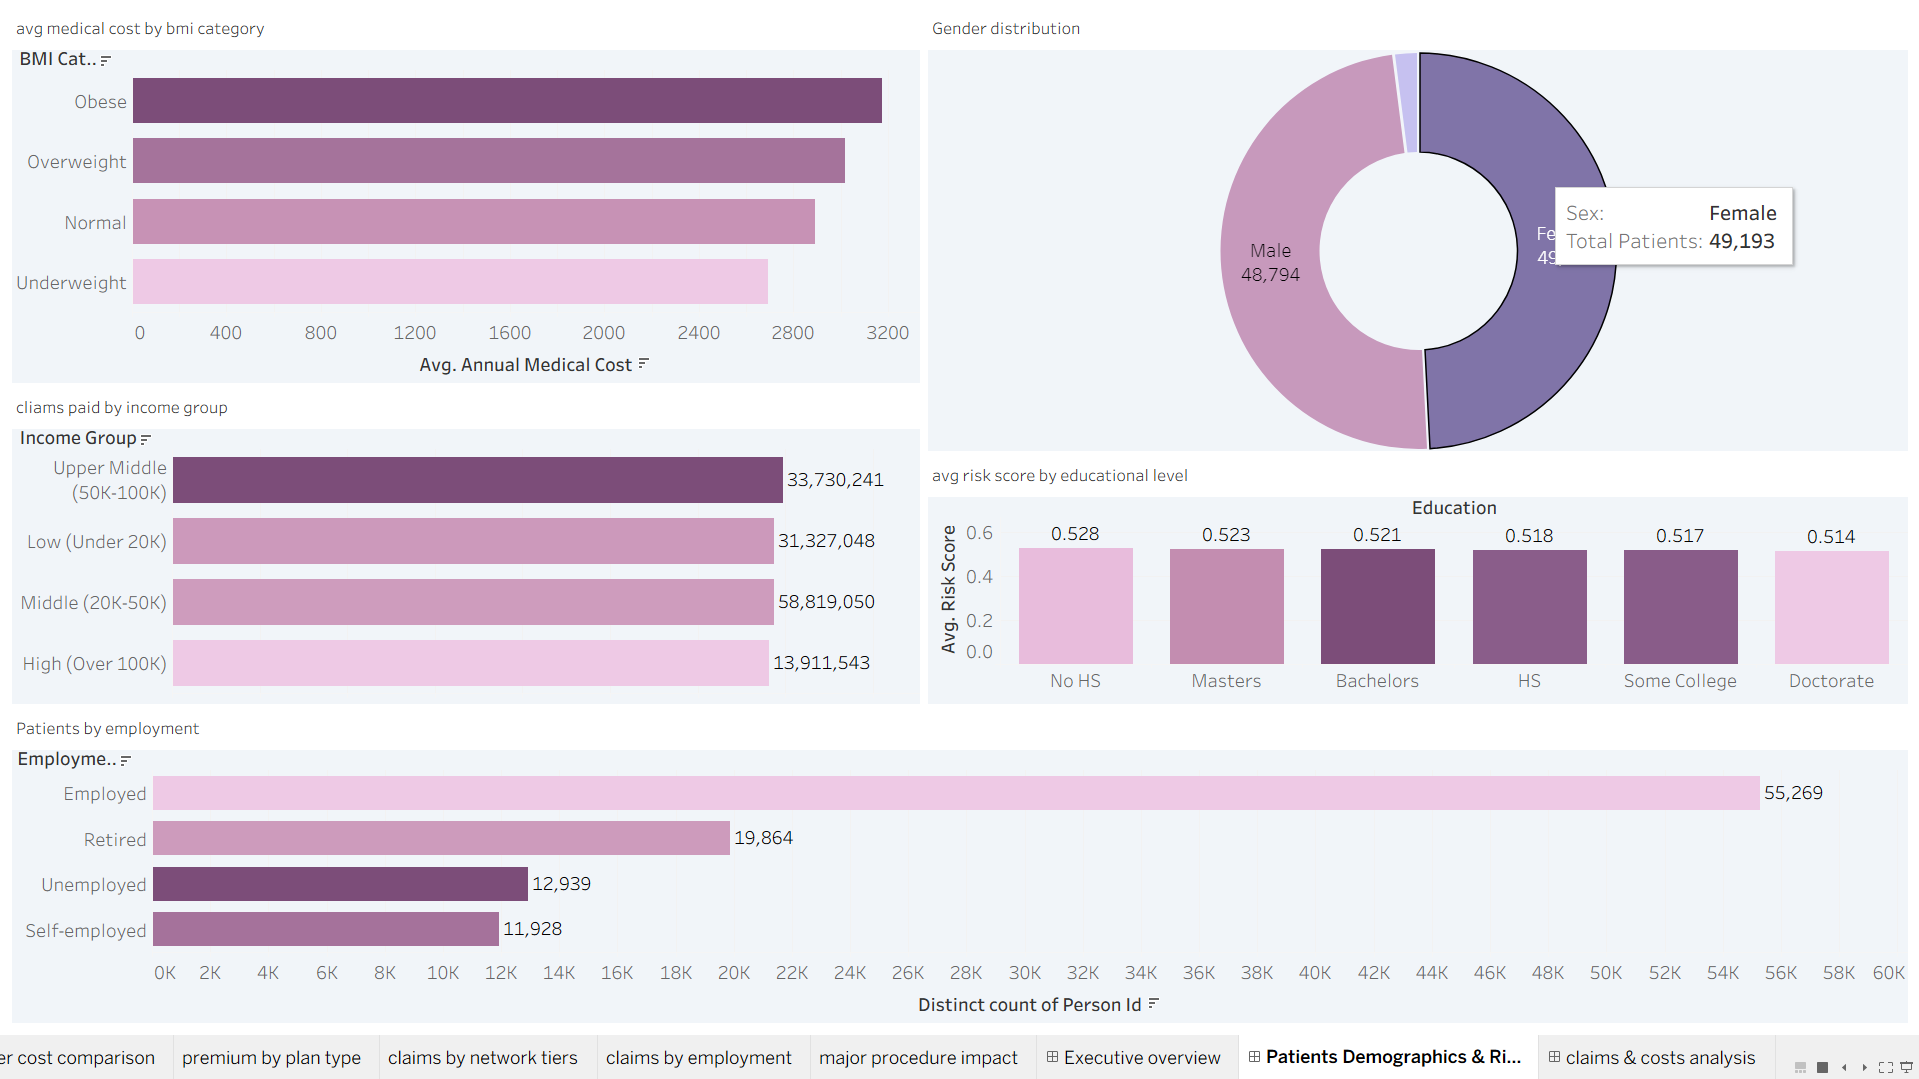

The page's visual inventory and layout, read from the dashboard file:
{"tool":"tableau","page":{"name":"Patients Demographics & Risk Profile","canvas":[1000,1000],"units":"permille","ordinal":1},"visuals":[{"type":"worksheet","title":"avg medical cost by bmi category","mark":"Automatic","rows":["Calculation_0591043999141889"],"cols":["annual_medical_cost"],"box":[4.2,7.7,477.1,366.3]},{"type":"worksheet","title":"Gender distribution","box":[481.2,7.7,514.6,431.8]},{"type":"worksheet","title":"cliams paid by income group","mark":"Automatic","rows":["Calculation_0591043999494146"],"cols":["total_claims_paid"],"box":[4.2,374,477.1,310.1]},{"type":"worksheet","title":"avg risk score by educational level","mark":"Automatic","rows":["risk_score"],"cols":["education"],"box":[481.2,439.5,514.6,244.6]},{"type":"worksheet","title":"Patients by employment","mark":"Automatic","rows":["employment_status"],"cols":["person_id"],"box":[4.2,684.1,991.7,308.1]}]}

Visuals, with their boxes on the dashboard's canvas, which has no fixed pixel size, in thousandths of its width and height (x1, y1, x2, y2). These are canvas units, not pixel positions in the 1919x1079 screenshot, which may show the page scaled, cropped or inside an application window:
"avg medical cost by bmi category" worksheet: (left=4, top=8, right=481, bottom=374)
"Gender distribution" worksheet: (left=481, top=8, right=996, bottom=440)
"cliams paid by income group" worksheet: (left=4, top=374, right=481, bottom=684)
"avg risk score by educational level" worksheet: (left=481, top=440, right=996, bottom=684)
"Patients by employment" worksheet: (left=4, top=684, right=996, bottom=992)
